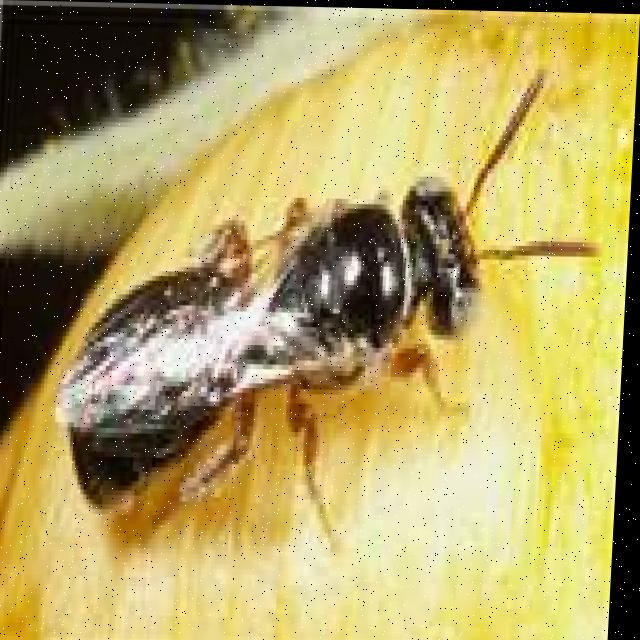Braunsapis: (51, 167, 536, 552)
